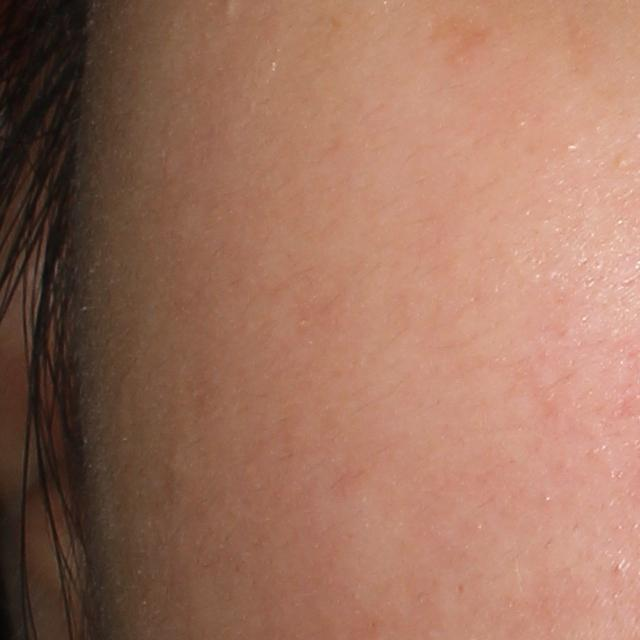melasma: (425, 8, 495, 77)
